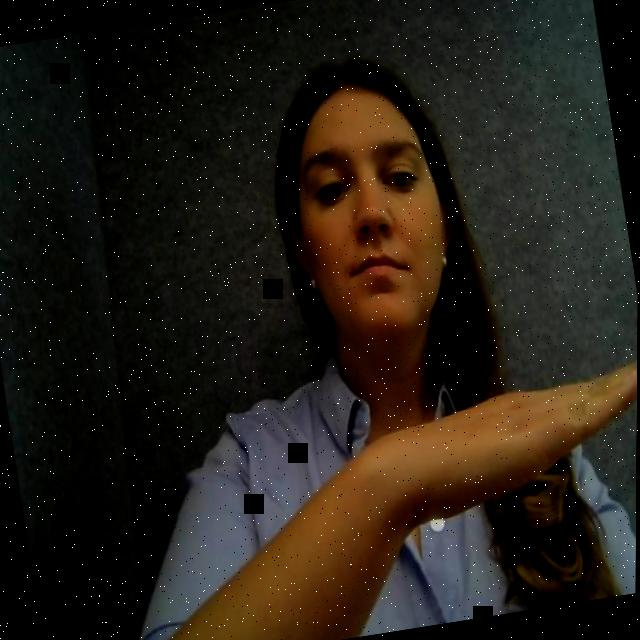Paper: (396, 344, 638, 528)
